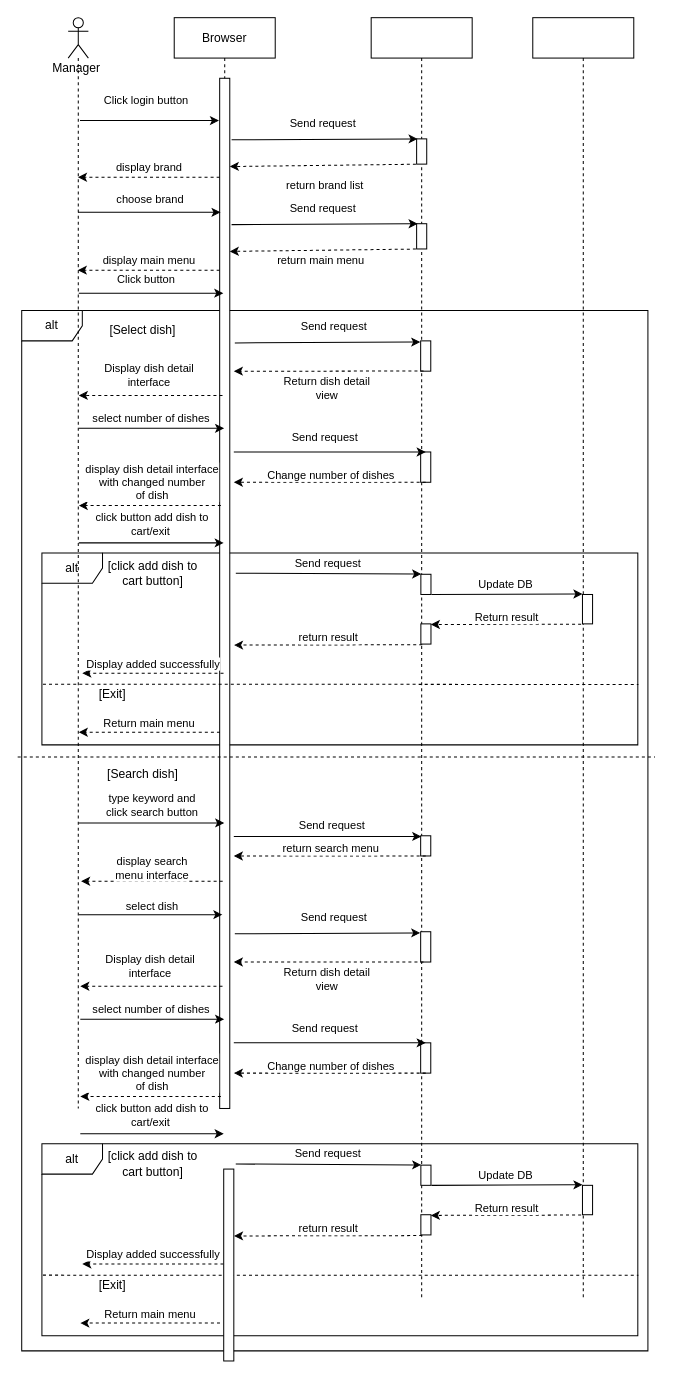
Some shapes in this 674 by 1379 pixel diagram are drawn without their labels. The shapes that lost their labels are listed below. From the top down, each one's box as (x1, y1, x2, y2) in pixels, then its label:
(370, 17, 472, 1300): POS
(532, 17, 634, 1300): Database
